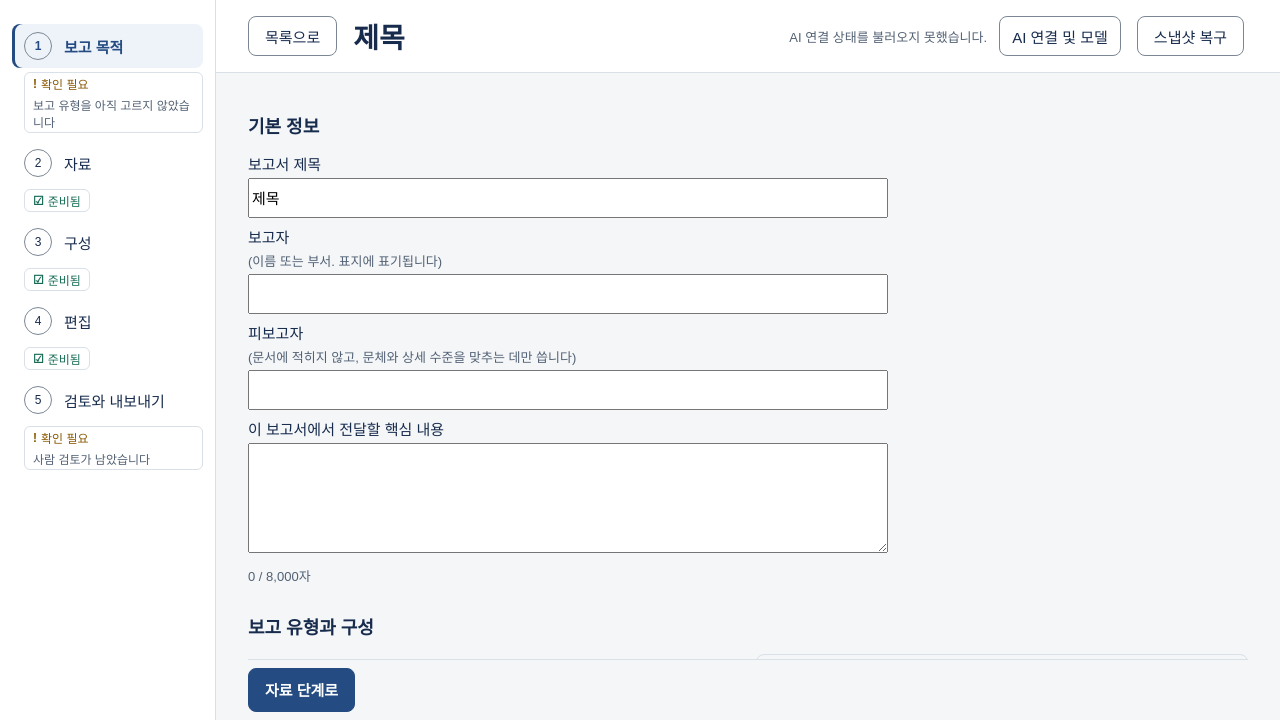
Test: 상단 머리의 저장 상태 출처 (계획 4.1 표) › 보고 목적: 폼이 저장본과 다르면 저장됨이 아니다
Expected: the button "4 편집" is enabled, left=12, top=299, right=203, bottom=343
Type " 고침" into the field labelled "보고서 제목" at coordinates (568, 198), box left=248, top=178, right=888, bottom=218
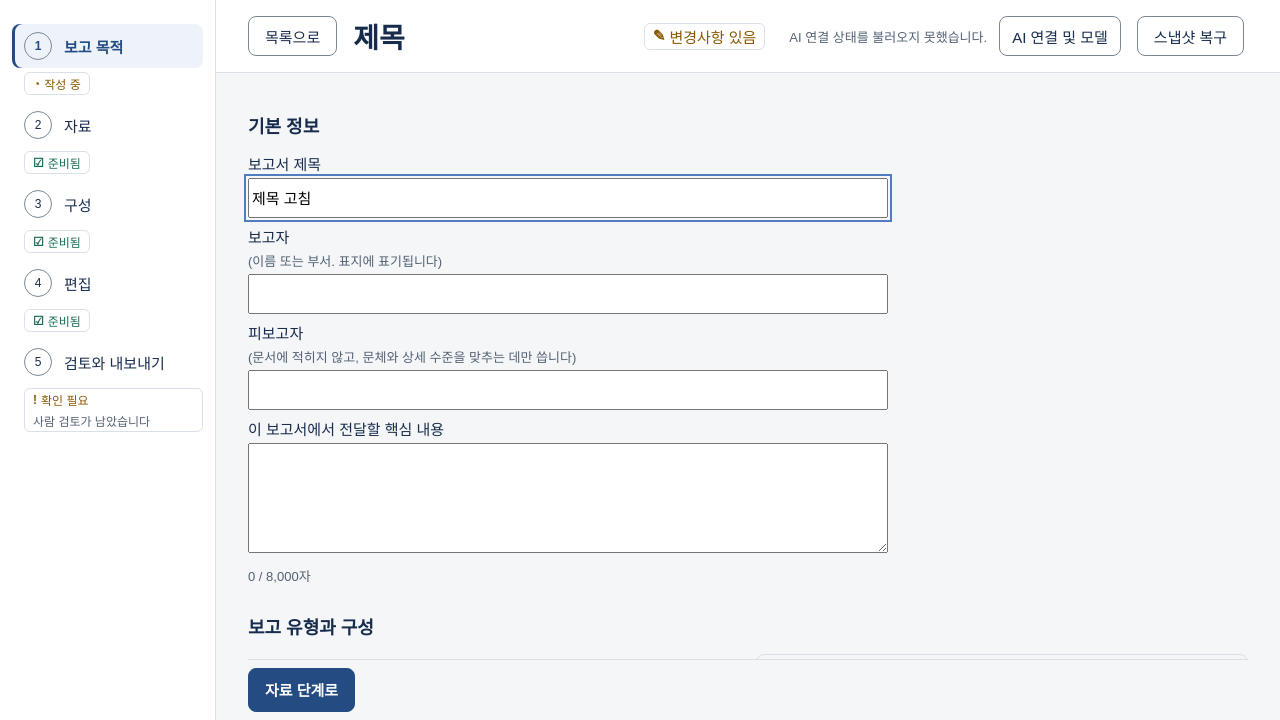
Result: the text with class "status-label" reads "변경사항 있음" at left=669, top=28, right=756, bottom=46
